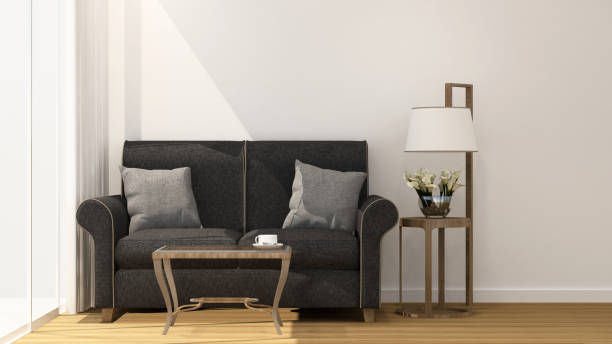floor lamp: (402, 76, 490, 315)
flower vase: (402, 163, 465, 218)
side table: (399, 213, 469, 319)
sofa: (75, 134, 399, 325)
table: (148, 234, 293, 336)
